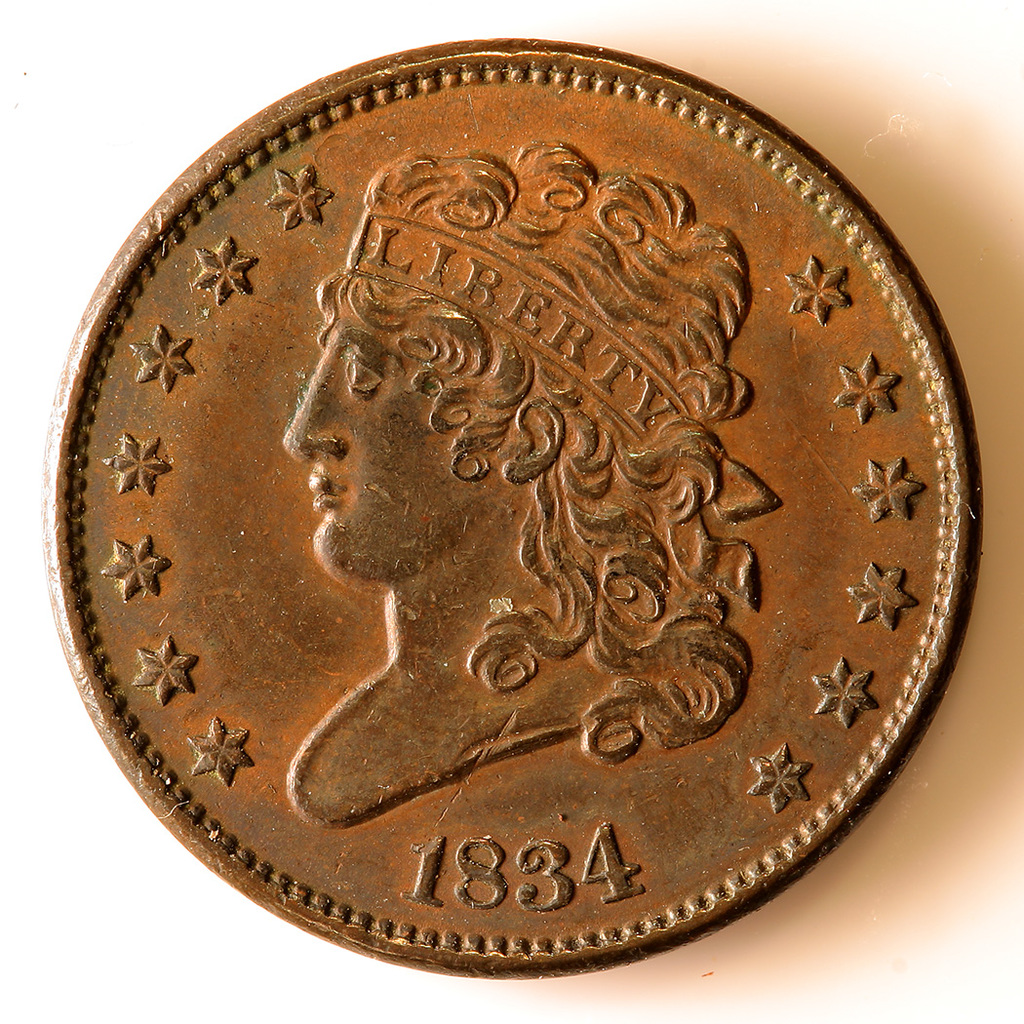Coin: (41, 35, 983, 977)
